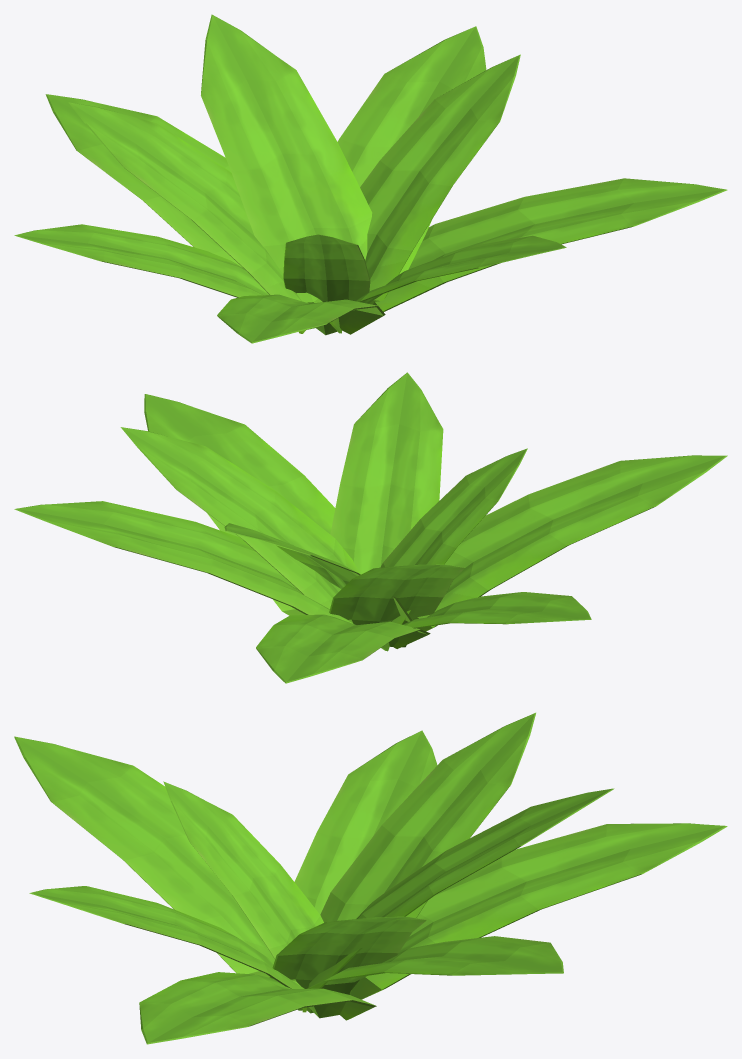
The model's file is Plant_02.fbx.
The picture shows the model from 3 angles, top to bottom: view 1: azimuth 30°, elevation 25°; view 2: azimuth 150°, elevation 25°; view 3: azimuth 270°, elevation 25°; orthographic projection. The views are drawn at different scales.
Parts seen in each view (by area): view 1: Plant_02; view 2: Plant_02; view 3: Plant_02.
Boxes of the visible parts, left/top/right/bottom form: Plant_02: left=14, top=14, right=727, bottom=343; Plant_02: left=14, top=372, right=727, bottom=683; Plant_02: left=14, top=712, right=727, bottom=1044.
Bounding box in the file's own units: 304 × 100 × 296.
Materials: 1 (1 with a texture image).
